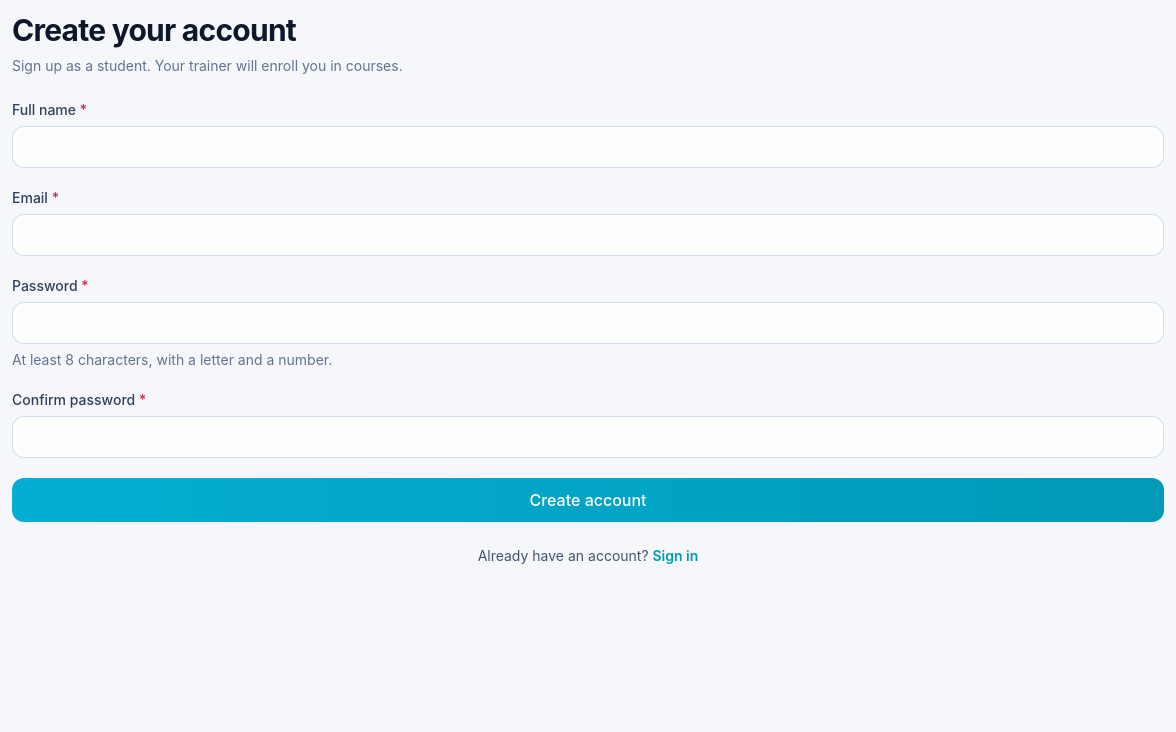
Test: RegisterPage › enforces the password rules and matching confirmation
Type "Asha Student" into the field labelled "Full name *" at x=588, y=147, box [12,126,1164,168]
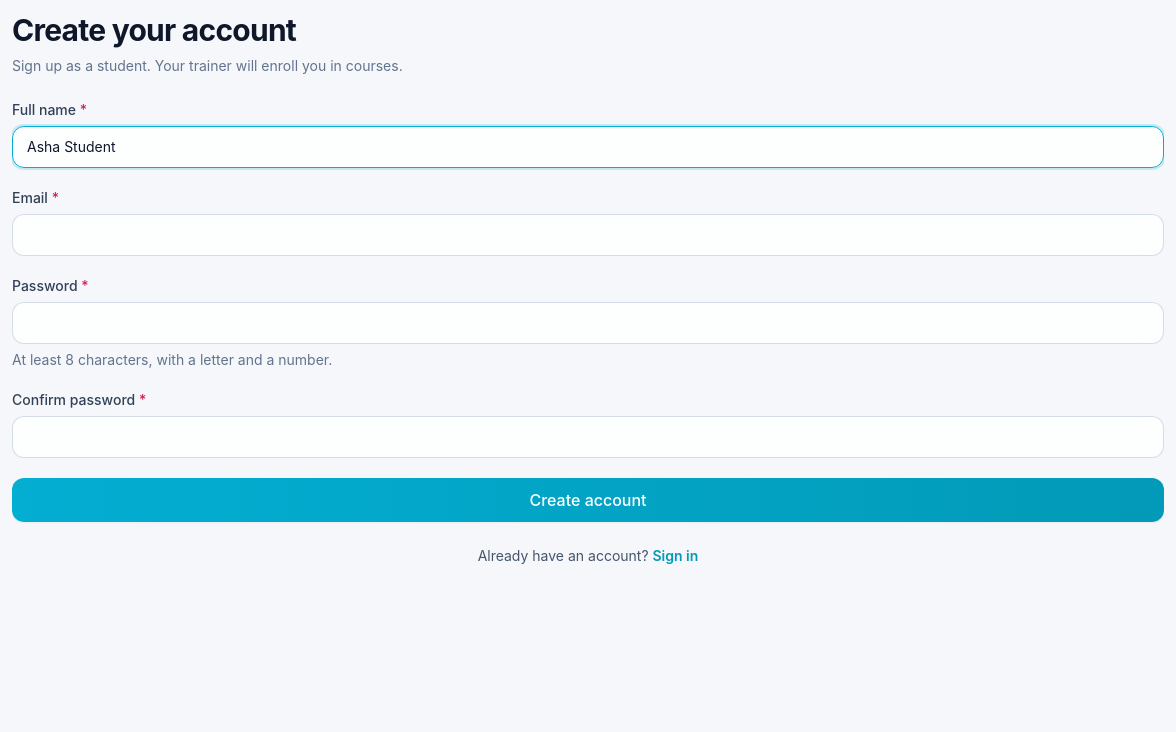
Type "asha@example.com" into the field labelled "Email *" at x=588, y=235, box [12,214,1164,256]
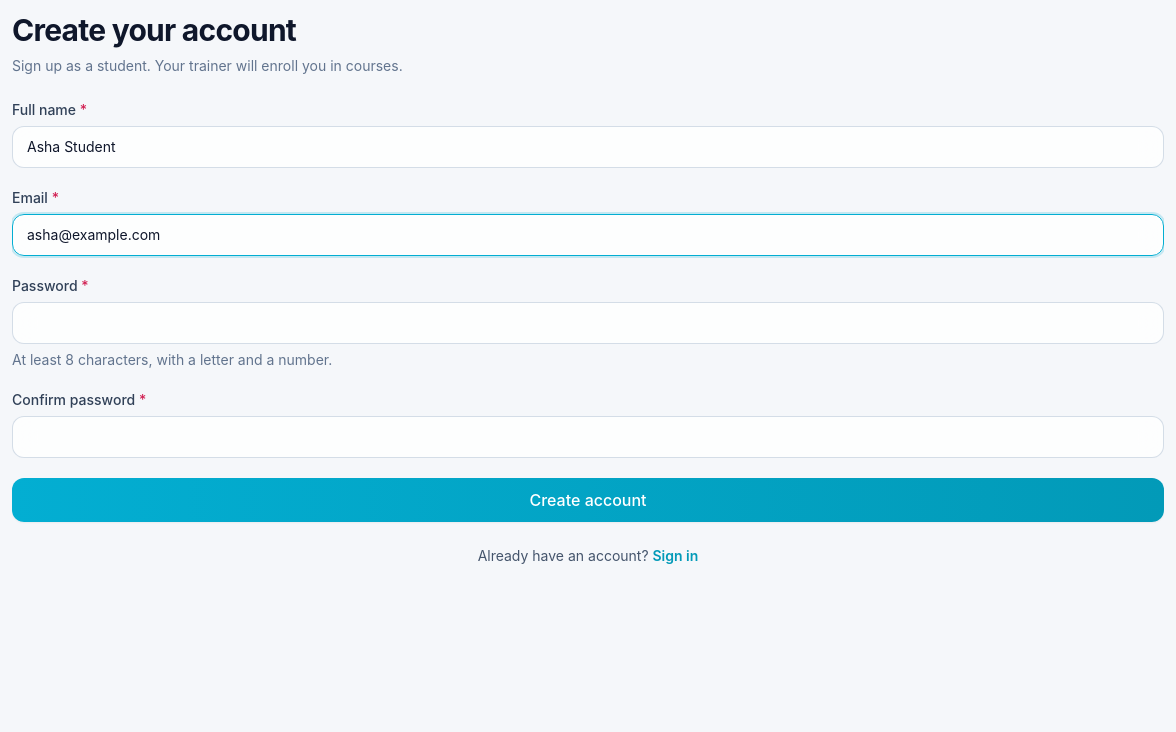
Type "lettersonly" into the password field labelled "Password *" at x=588, y=323, box [12,302,1164,344]
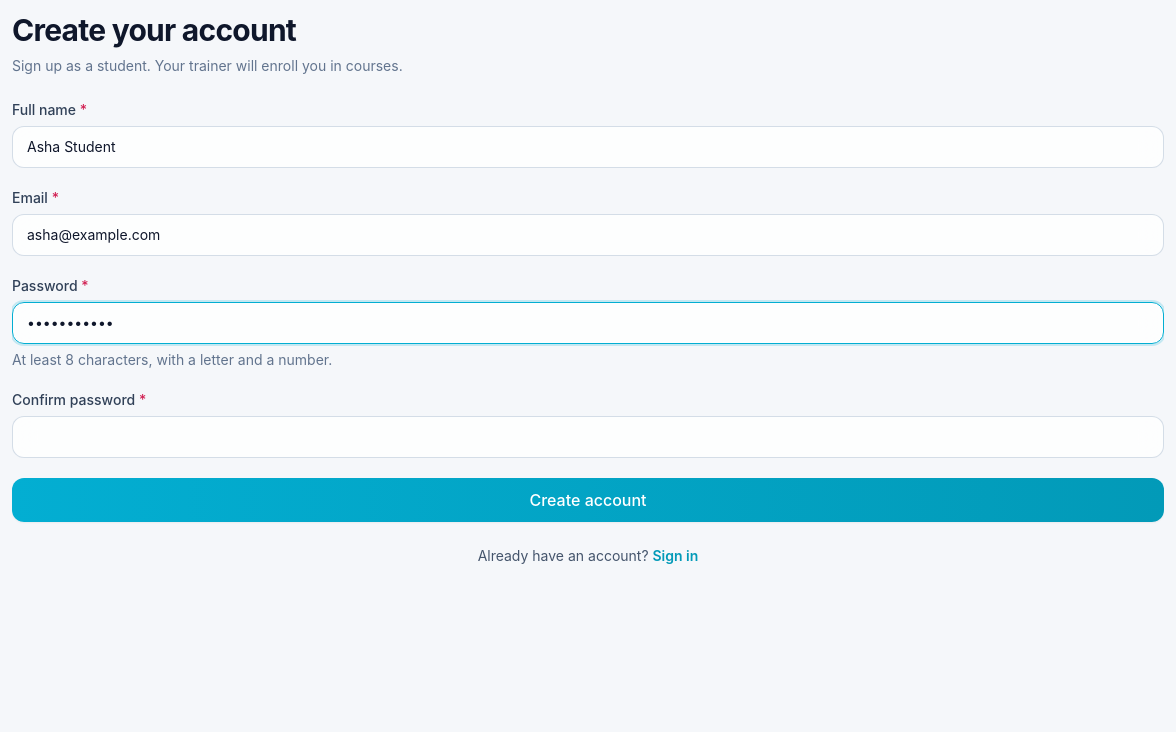
Type "different1" into the password field labelled "Confirm password *" at x=588, y=437, box [12,416,1164,458]
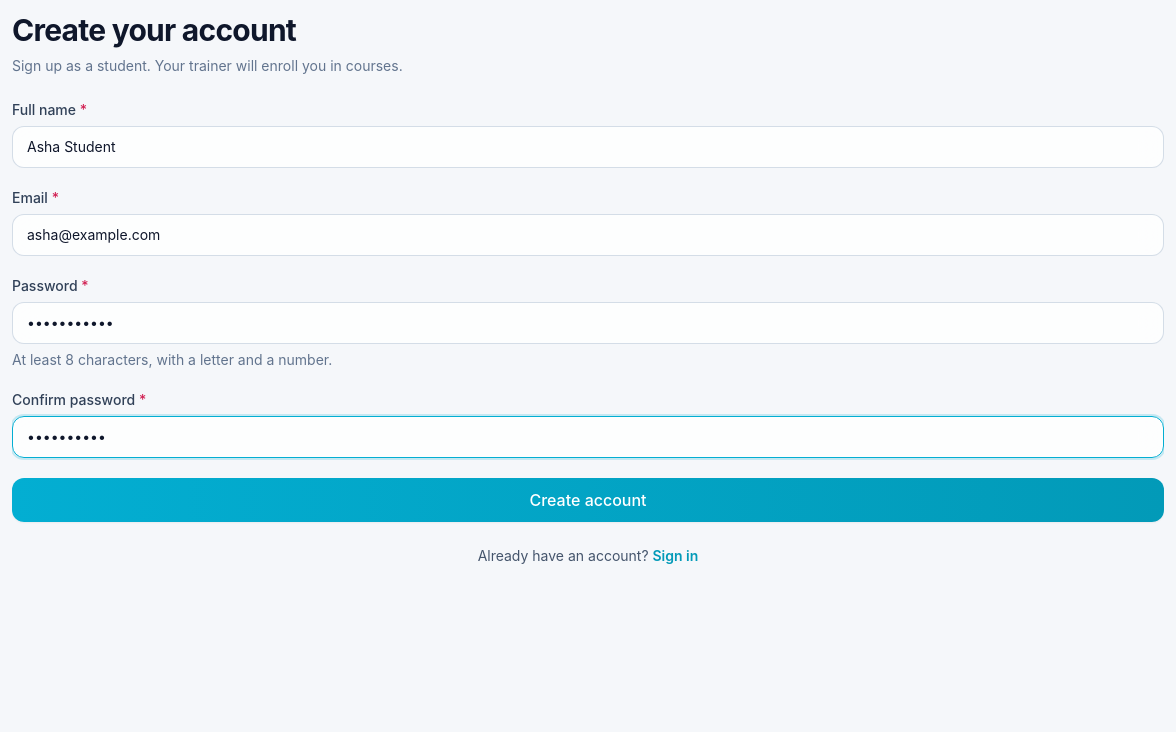
Click the button "Create account" at x=588, y=500, box [12,478,1164,522]
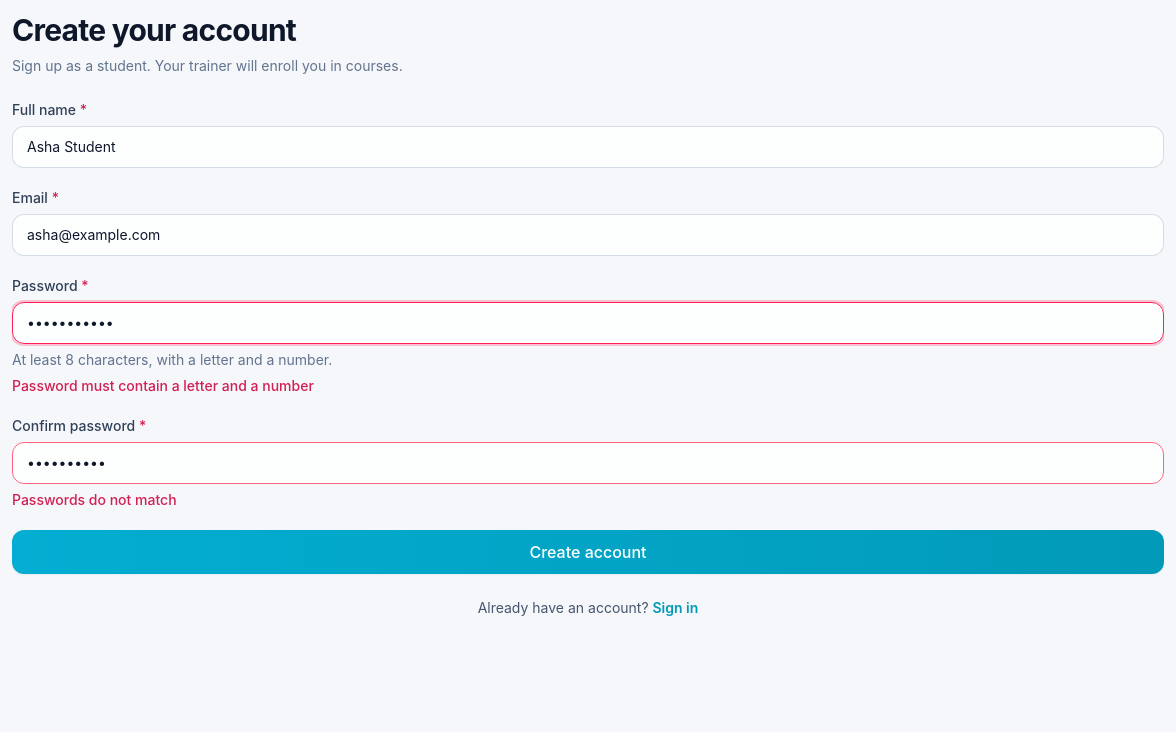
Expected: the text "Password must contain a letter and a number" is shown, [12,377,314,394]
Expected: the text "Passwords do not match" is shown, [12,491,177,508]
